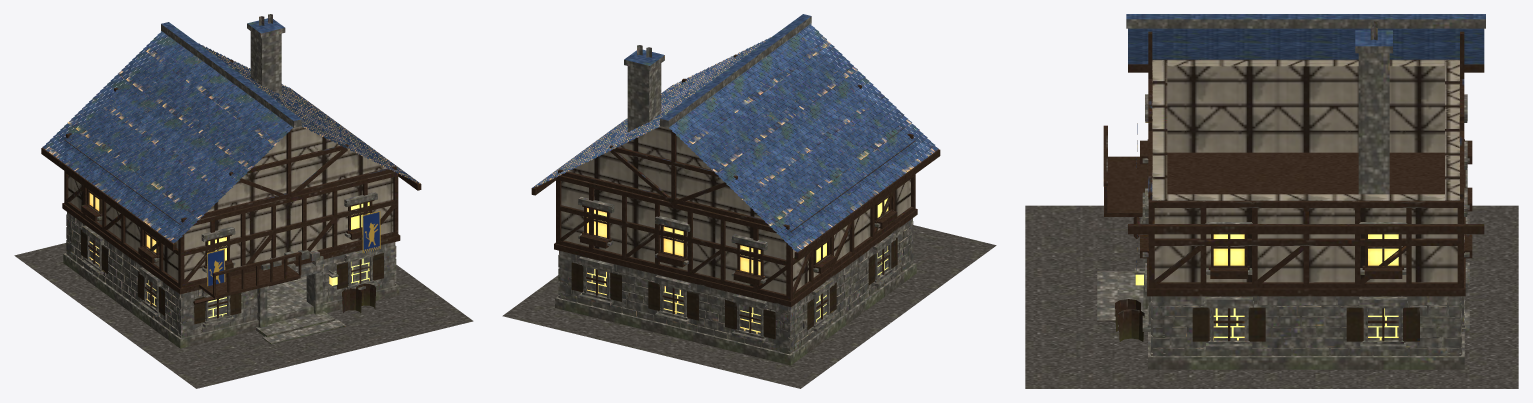
The model's file is bld_house3_card.glb.
3 renders of one model, left to right at view 1: azimuth 30°, elevation 25°; view 2: azimuth 150°, elevation 25°; view 3: azimuth 270°, elevation 25°, orthographic. The views are drawn at different scales.
Visible parts, largest first — view 1: house3_card; view 2: house3_card; view 3: house3_card.
Boxes of the visible parts, x1,y1,x2,y2 form: house3_card: (14, 14, 473, 388); house3_card: (502, 14, 996, 388); house3_card: (1025, 14, 1518, 388).
Size of the model in its own units: 21.5 by 17.06 by 24.48.
1 material, 1 textured.
